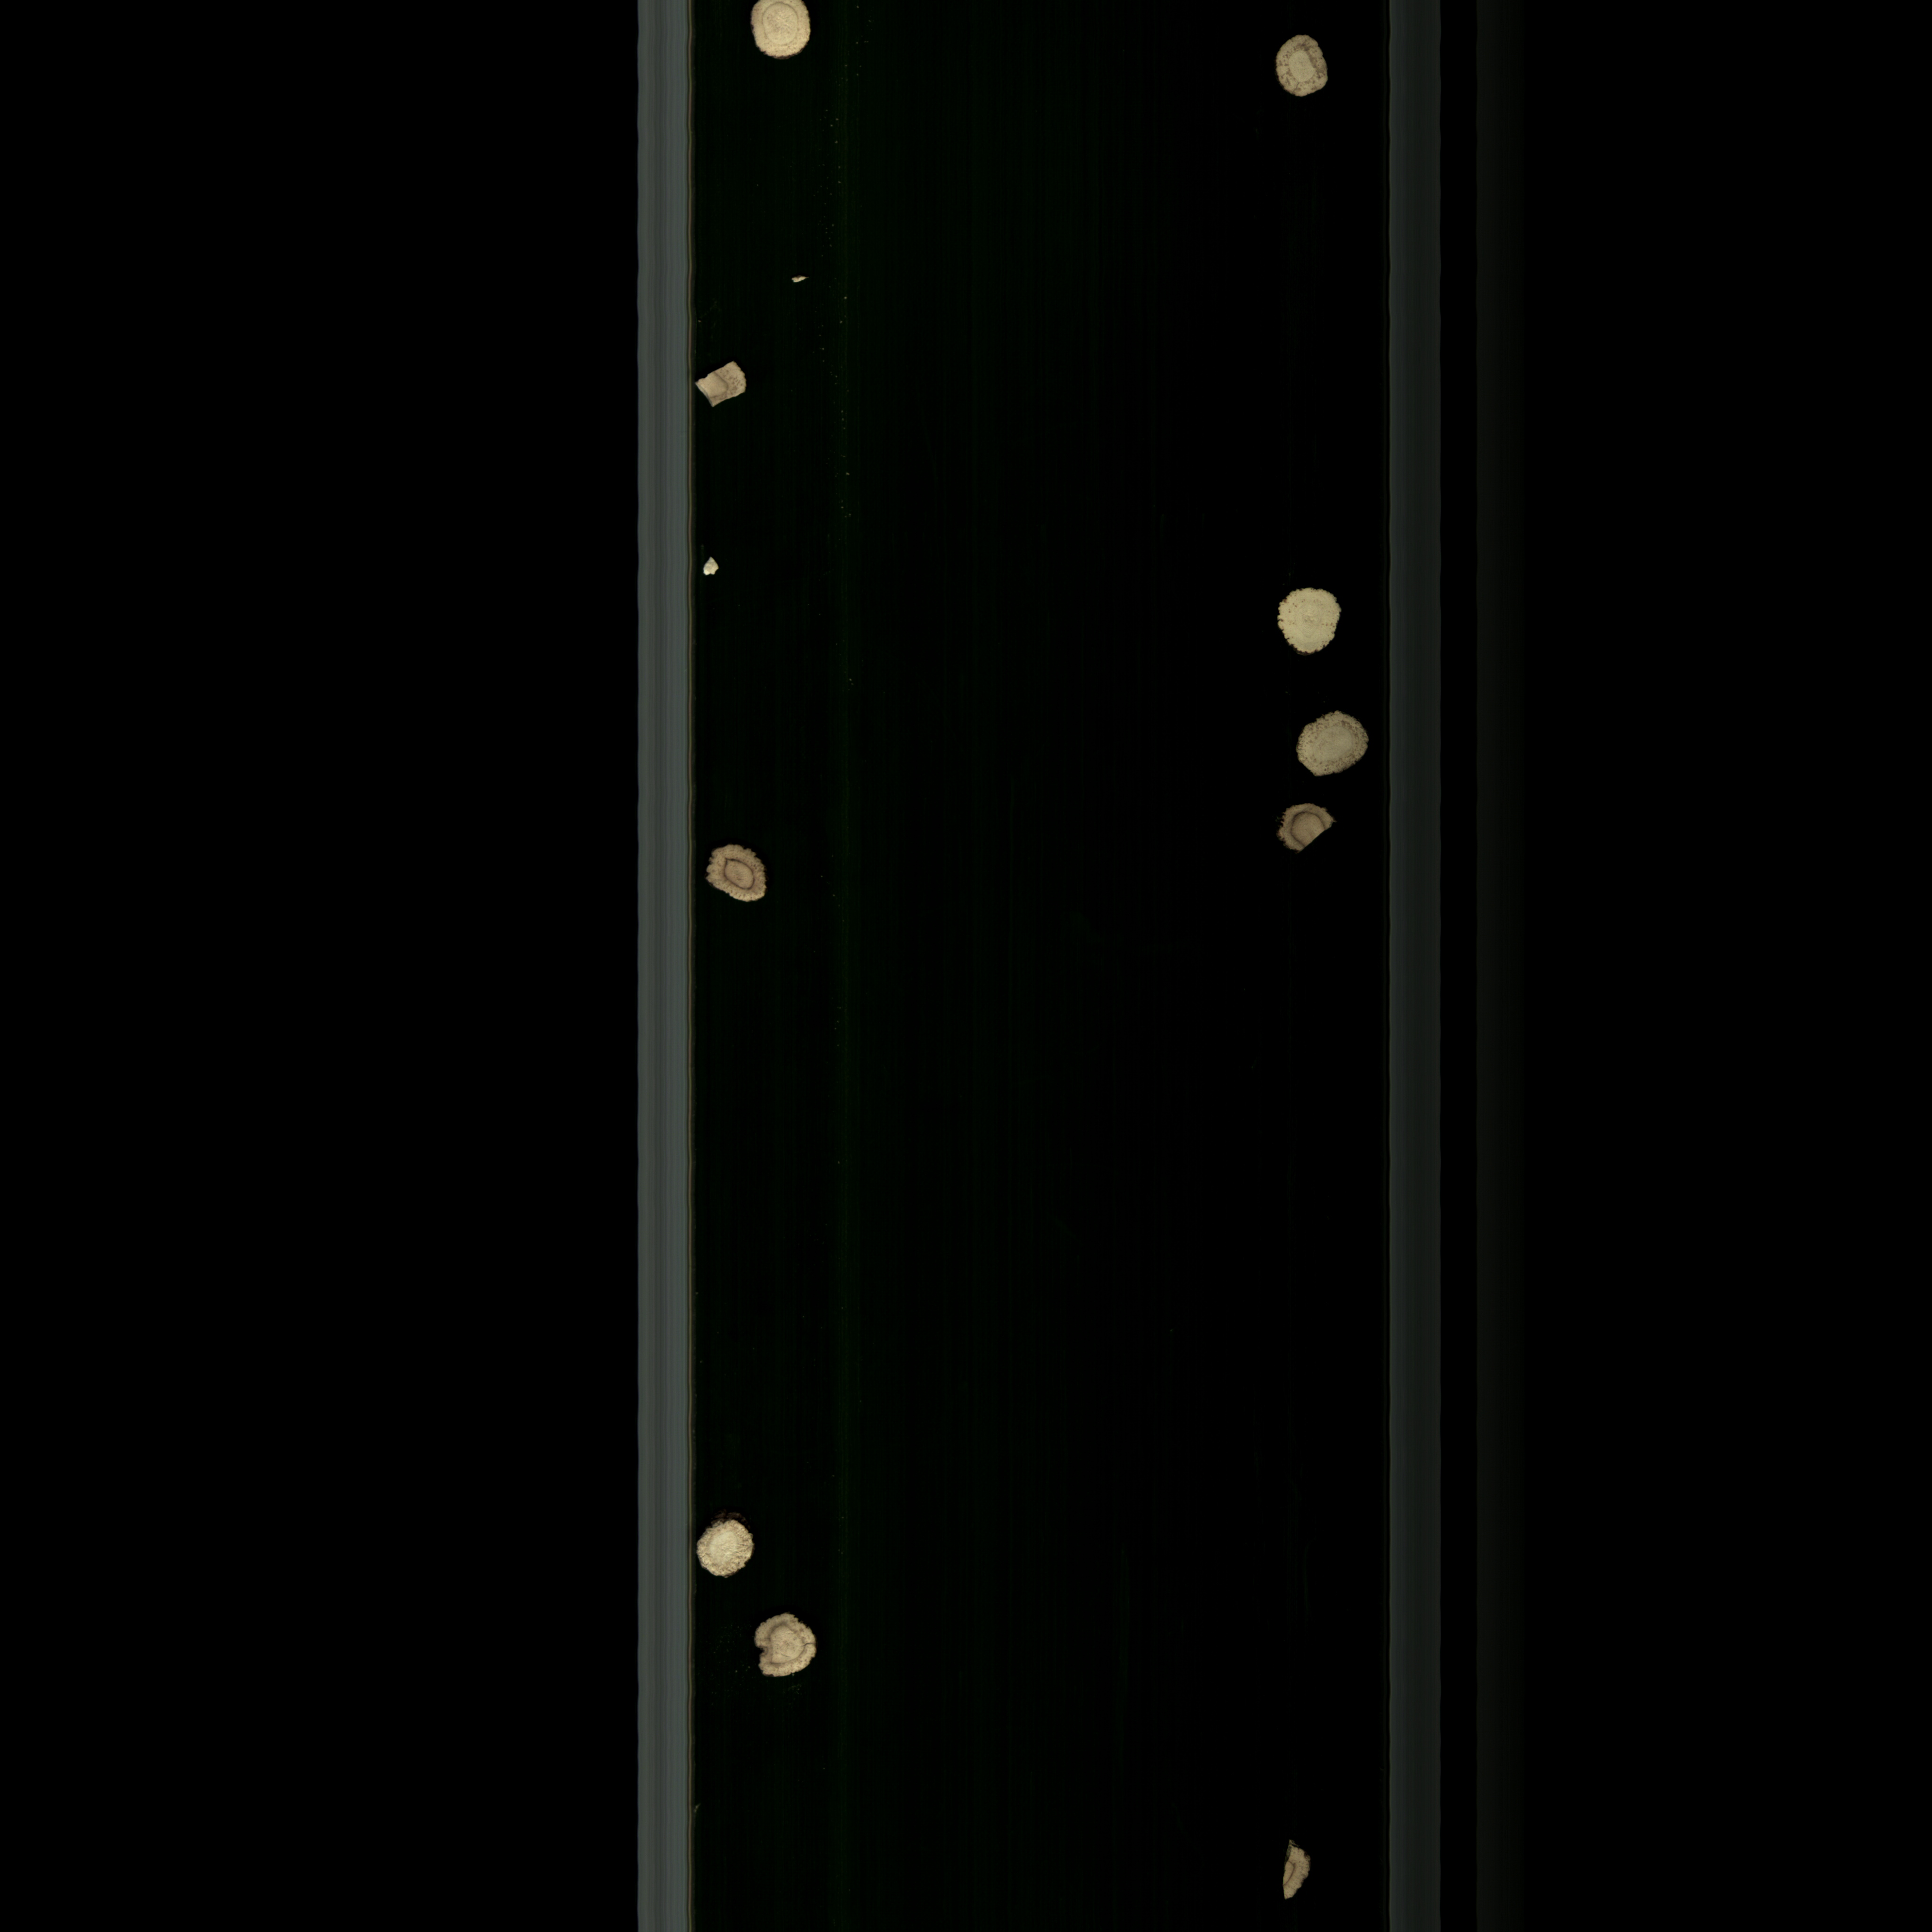dreg: (690, 354, 759, 416), (1274, 1831, 1320, 1911), (699, 552, 729, 584), (782, 271, 819, 294)
moldy: (1270, 19, 1341, 113), (697, 840, 784, 913), (747, 1610, 824, 1686), (1270, 796, 1346, 856)
